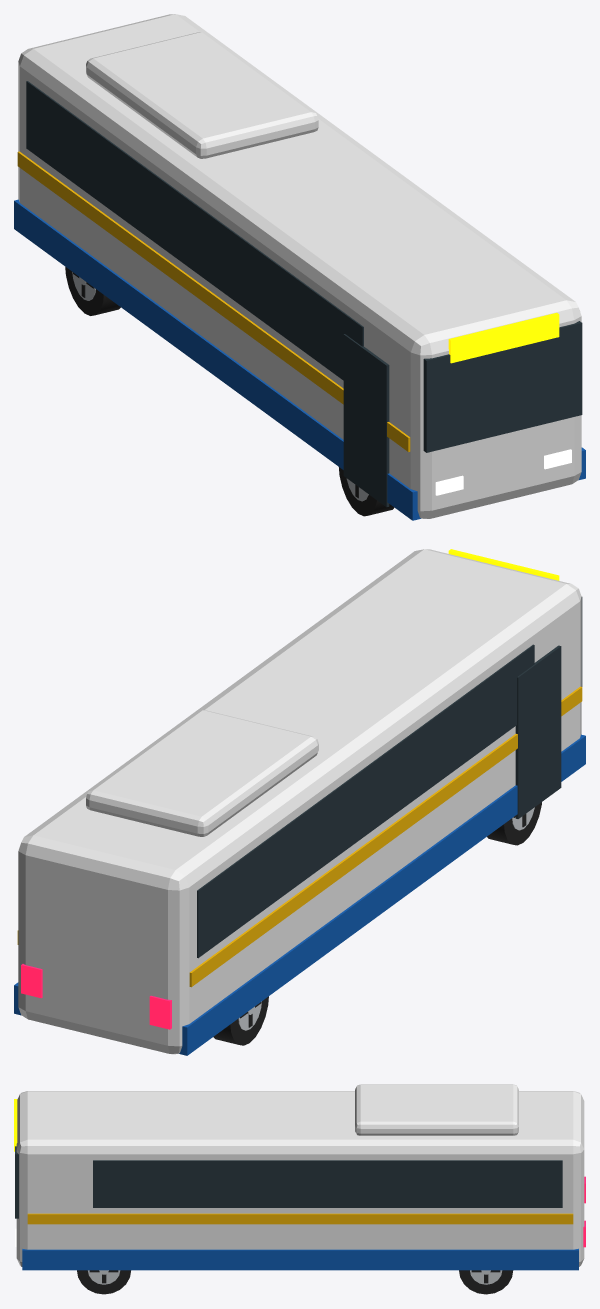
The model's file is foot_bus.glb.
3 views of the same model, one above another, from view 1: azimuth 30°, elevation 25°; view 2: azimuth 150°, elevation 25°; view 3: azimuth 270°, elevation 25° (orthographic). The views are drawn at different scales.
Parts seen in each view (by area): view 1: FootBus_body, Wheel_RR.001, Wheel_FR.001; view 2: FootBus_body, Wheel_RR.001, Wheel_FR.001; view 3: FootBus_body, Wheel_RL.001, Wheel_FL.001.
Boxes of the visible parts, x1,y1,x2,y2 form: FootBus_body: [14, 14, 585, 520]; Wheel_RR.001: [65, 267, 120, 315]; Wheel_FR.001: [339, 467, 394, 516]; FootBus_body: [14, 549, 585, 1055]; Wheel_RR.001: [213, 996, 268, 1045]; Wheel_FR.001: [487, 802, 541, 845]; FootBus_body: [14, 1084, 585, 1270]; Wheel_RL.001: [459, 1270, 513, 1294]; Wheel_FL.001: [77, 1270, 130, 1294].
Size of the model in its own units: 2.57 by 3.3 by 10.48.
